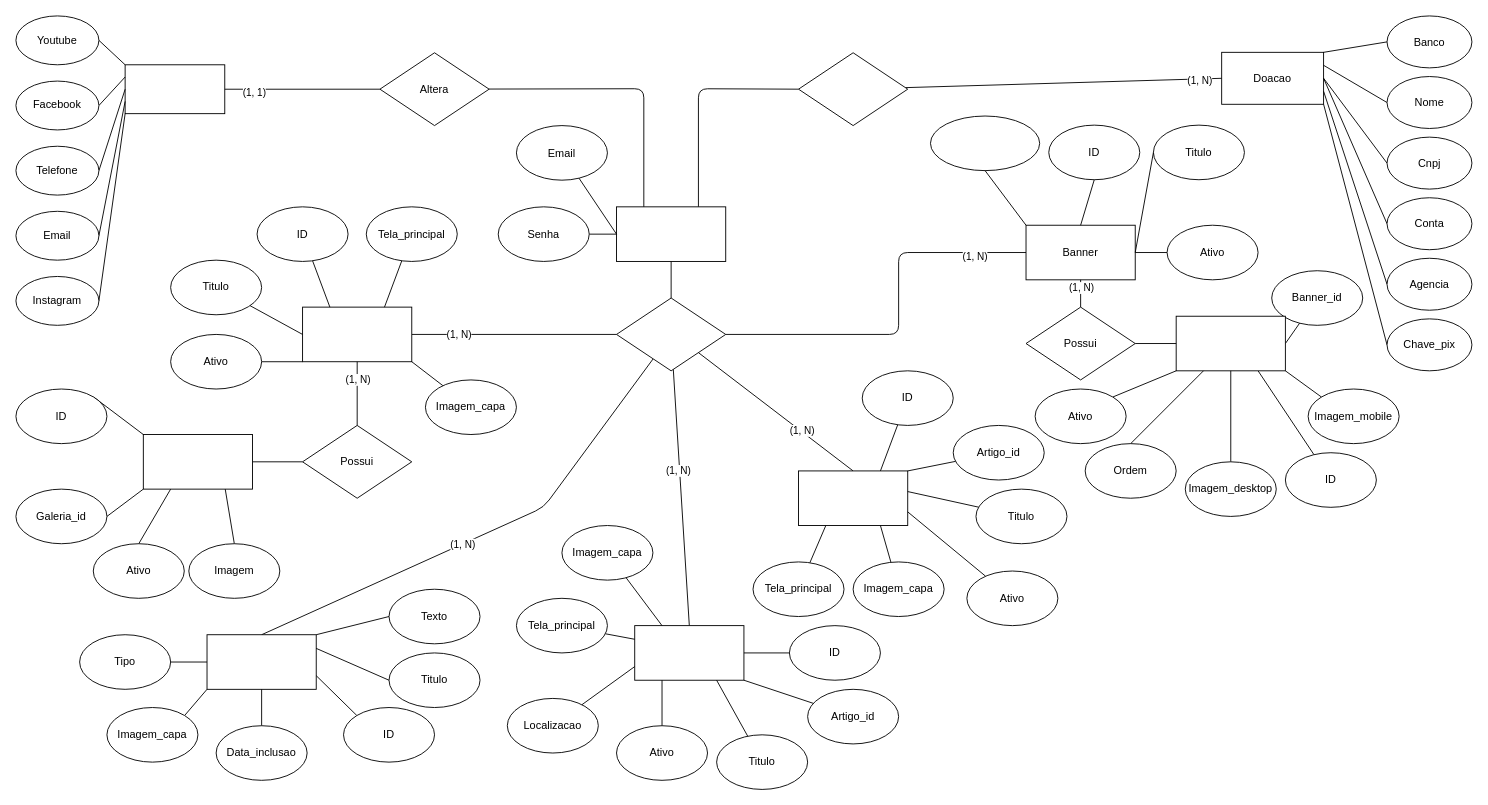
Some shapes in this 1488 by 805 pixel diagram are drawn without their labels. Each missing label, with the box of its shape:
Artigo: (206, 634, 316, 689)
Banner_imagem: (1175, 315, 1285, 371)
Empresa: (124, 64, 225, 114)
Evento: (634, 625, 744, 680)
Galeria: (302, 306, 412, 362)
Galeria_imagem: (142, 434, 253, 489)
Nutricao: (798, 470, 908, 526)
Publica: (616, 297, 726, 371)
Quantidade_exibicao: (930, 115, 1040, 171)
Usuario: (616, 206, 726, 261)
Visualiza: (798, 52, 908, 126)
